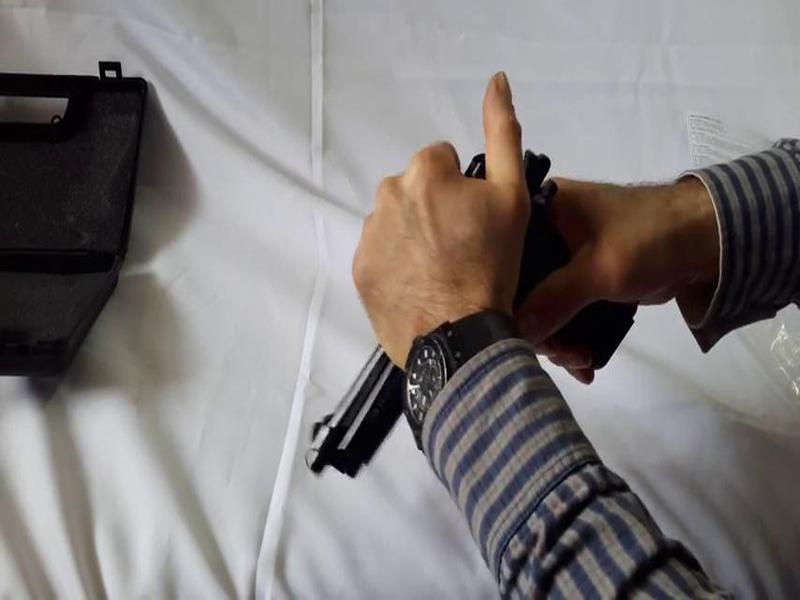Pistola: (283, 128, 656, 489)
